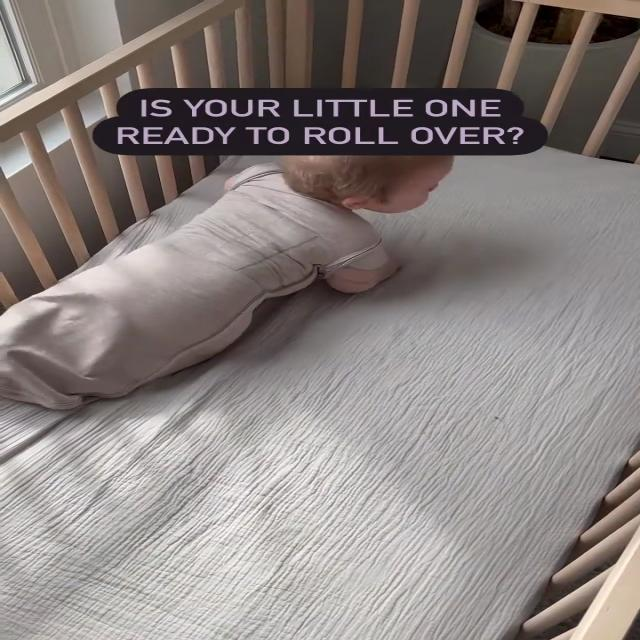baby: (0, 144, 473, 410)
